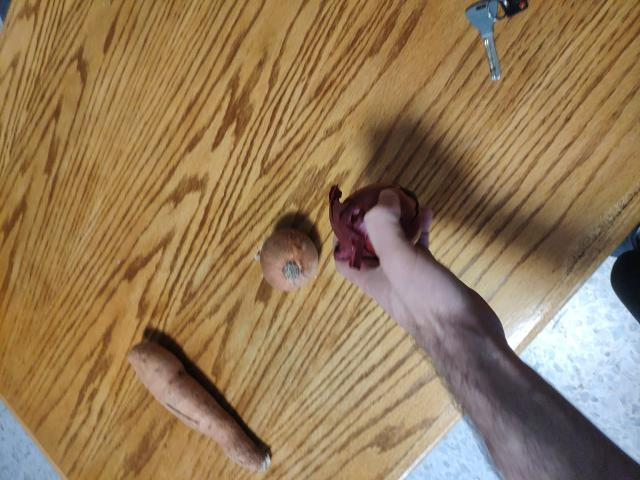onion: (328, 192, 415, 274)
